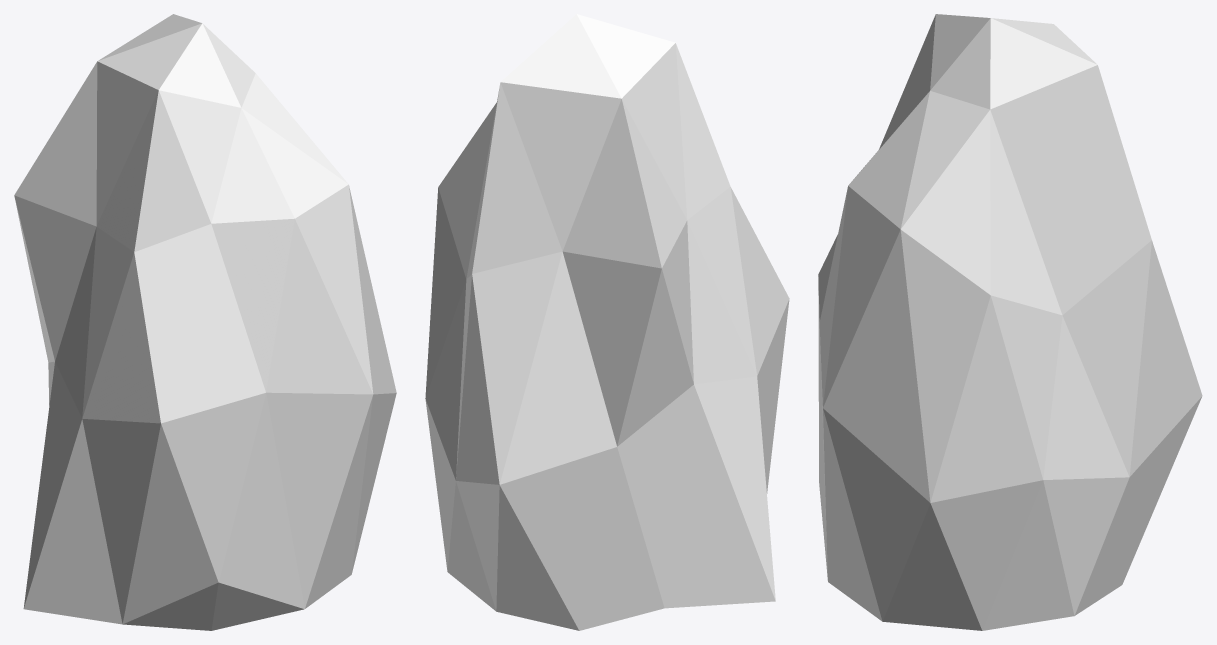
The model's file is Bush_02_Mesh.fbx.
3 views of the same model, side by side, from view 1: azimuth 30°, elevation 25°; view 2: azimuth 150°, elevation 25°; view 3: azimuth 270°, elevation 25° (orthographic). The views are drawn at different scales.
Parts seen in each view (by area): view 1: Bush_02; view 2: Bush_02; view 3: Bush_02.
Part boxes in pixels (x1,y1,x2,y2): Bush_02: [14, 14, 396, 630]; Bush_02: [425, 14, 789, 630]; Bush_02: [818, 14, 1202, 630].
Size of the model in its own units: 170 by 253 by 156.
